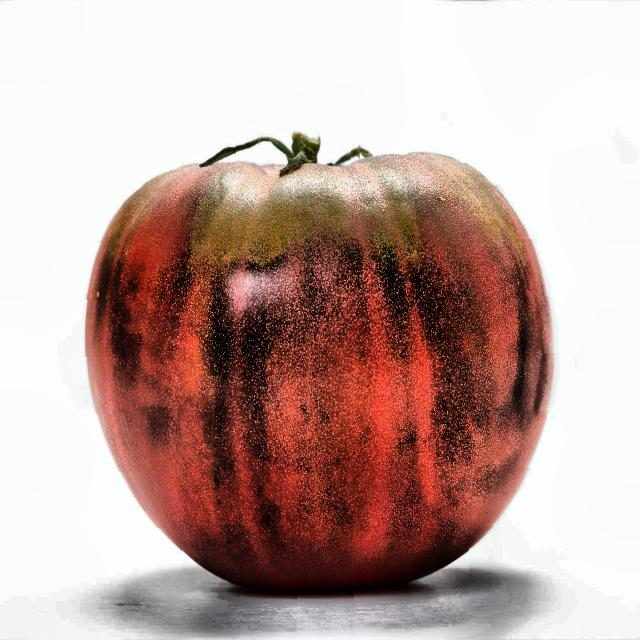tomato: (22, 13, 625, 639)
